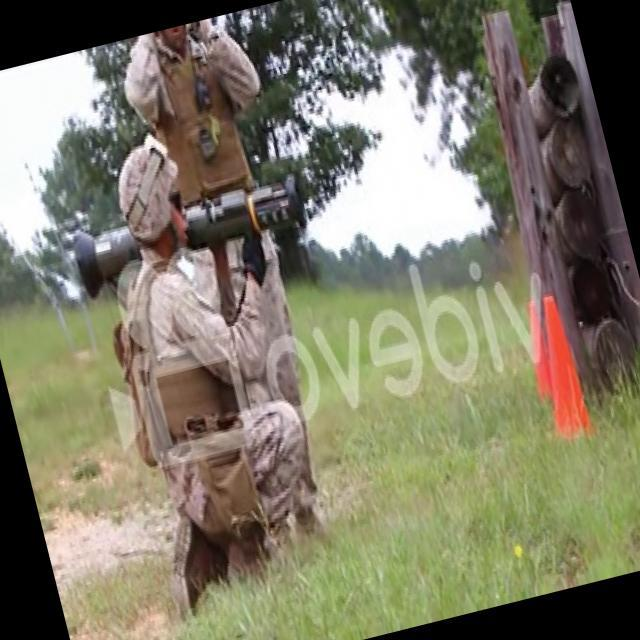rocket: (70, 172, 314, 293)
